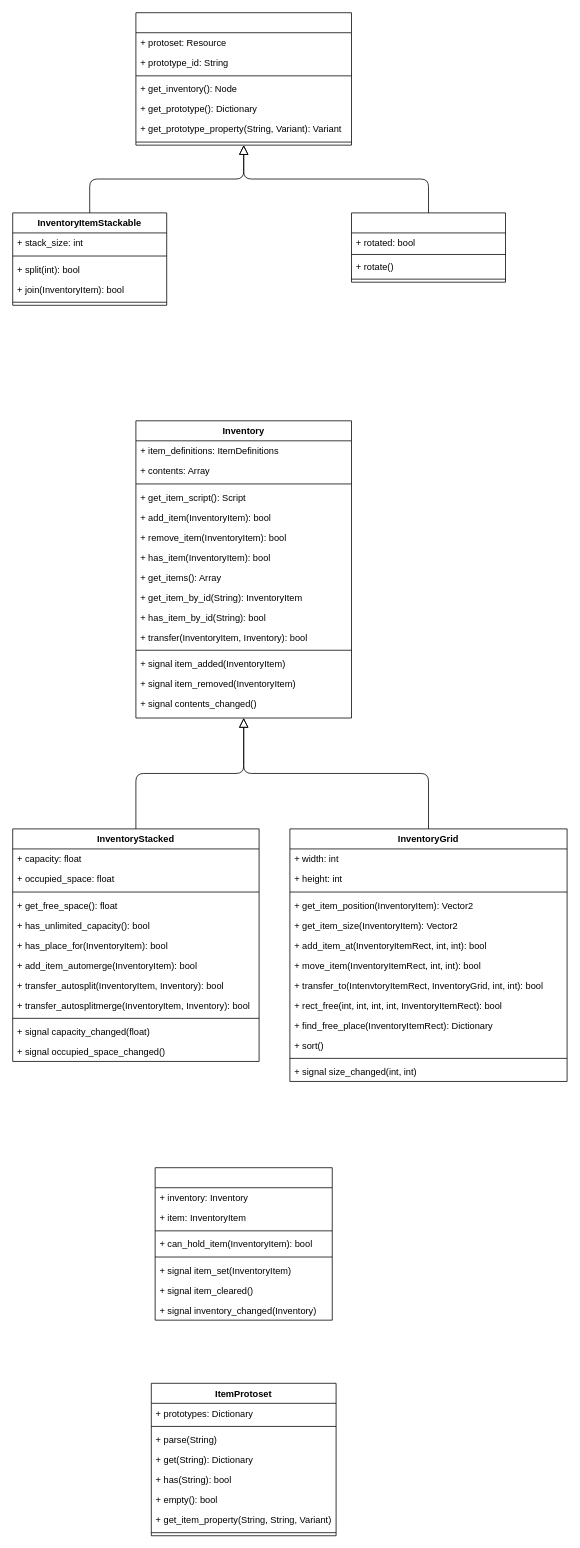
The diagram is 580 pixels wide and 1548 high, and some of its shapes have lost their labels. Here are the shapes that lost their labels. From the top down, the box of each, then its label:
(135, 12, 352, 145): InventoryItem
(351, 212, 506, 282): InventoryItemRect
(154, 1167, 332, 1320): ItemSlot
